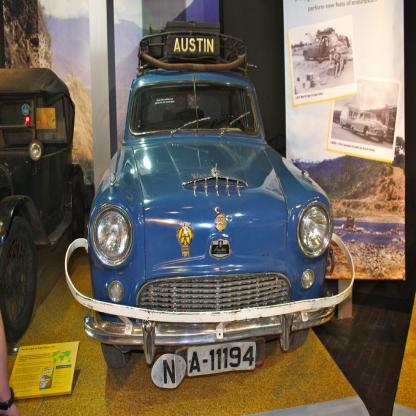Car: (65, 21, 356, 390), (1, 69, 83, 344), (303, 32, 349, 62), (351, 112, 388, 145), (353, 107, 376, 139), (342, 106, 360, 126)
